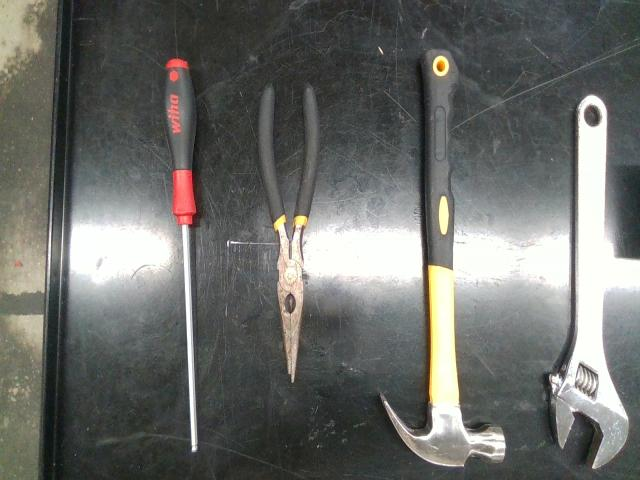Adjustable spanner: (549, 95, 629, 468)
Hammer: (381, 50, 505, 466)
Needle-nose pliers: (258, 83, 320, 381)
Screwdriver: (165, 58, 198, 451)
